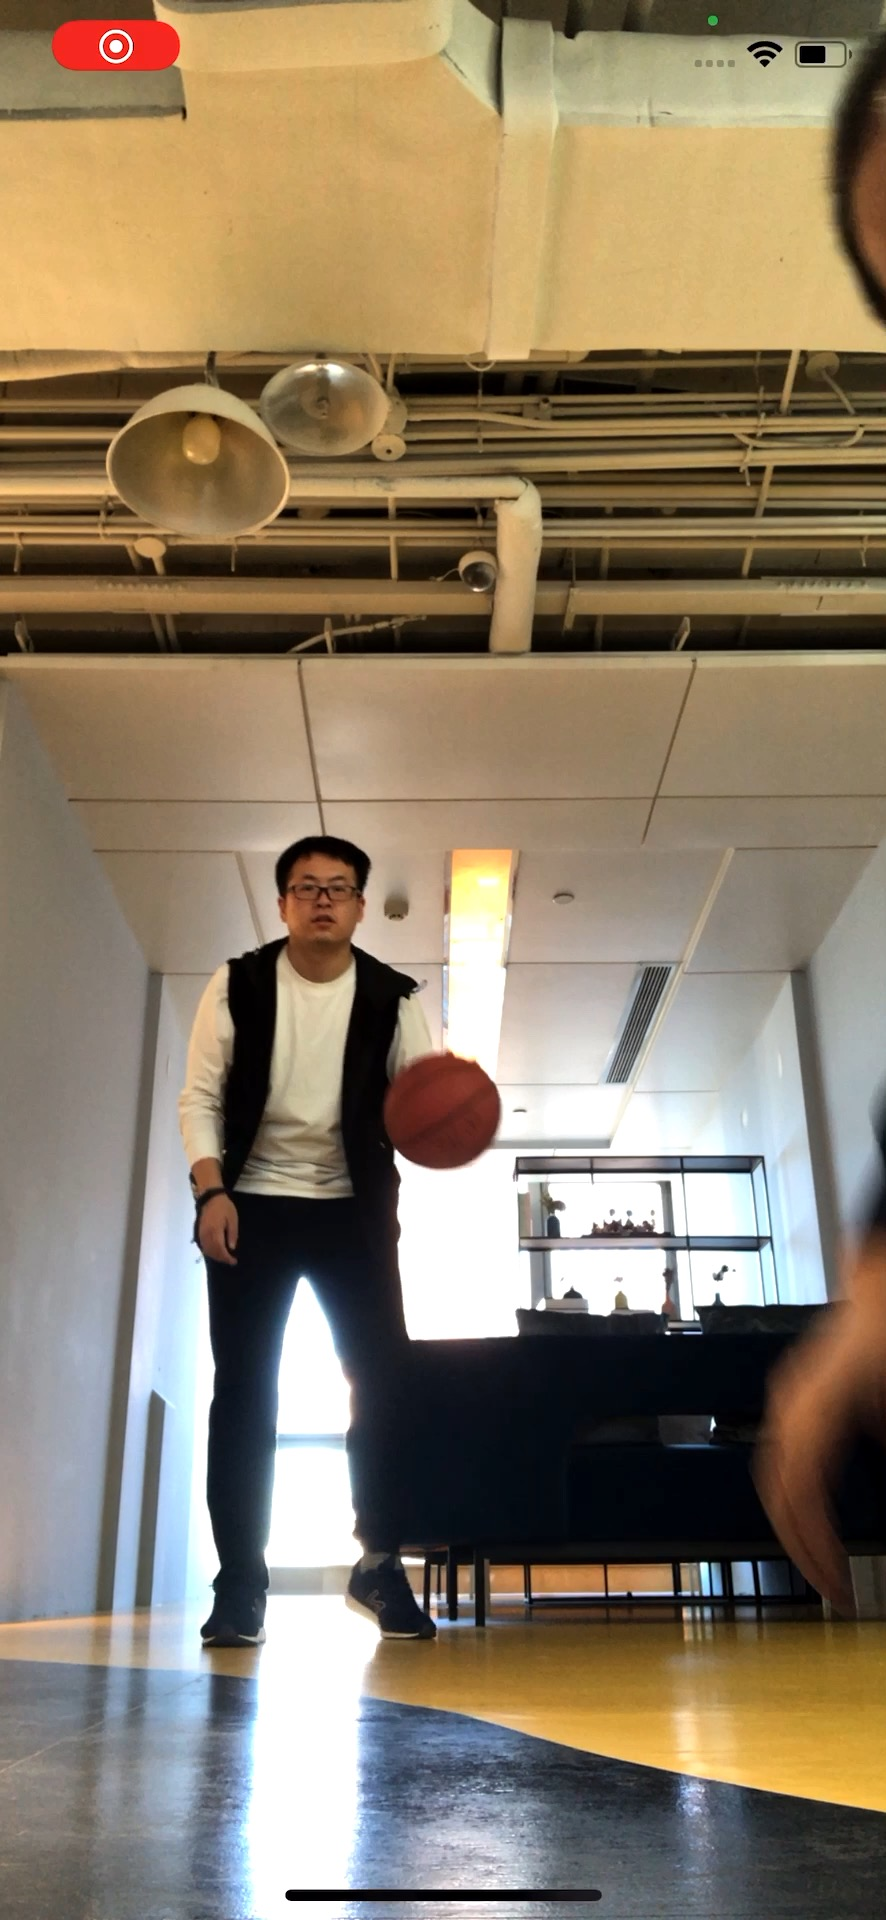ball: (385, 1051, 496, 1168)
